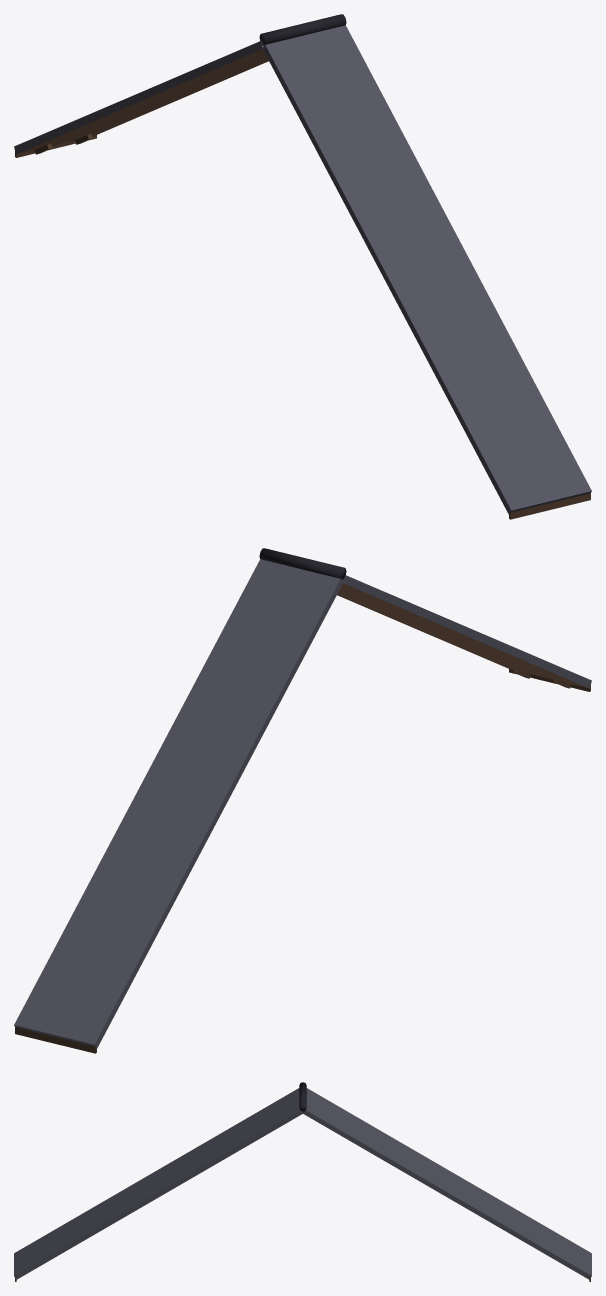
File: kit_stone_slate_w10.glb
The picture shows the model from 3 angles, top to bottom: view 1: azimuth 30°, elevation 25°; view 2: azimuth 150°, elevation 25°; view 3: azimuth 270°, elevation 25°; orthographic projection. The views are drawn at different scales.
Visible parts, largest first — view 1: kit_stone_slate_w10; view 2: kit_stone_slate_w10; view 3: kit_stone_slate_w10.
Part boxes in pixels (box(x1,y1,x2,y2)): kit_stone_slate_w10: box(14, 14, 591, 519); kit_stone_slate_w10: box(14, 548, 591, 1053); kit_stone_slate_w10: box(14, 1082, 591, 1281).
Size of the model in its own units: 1 by 3.61 by 10.7.
